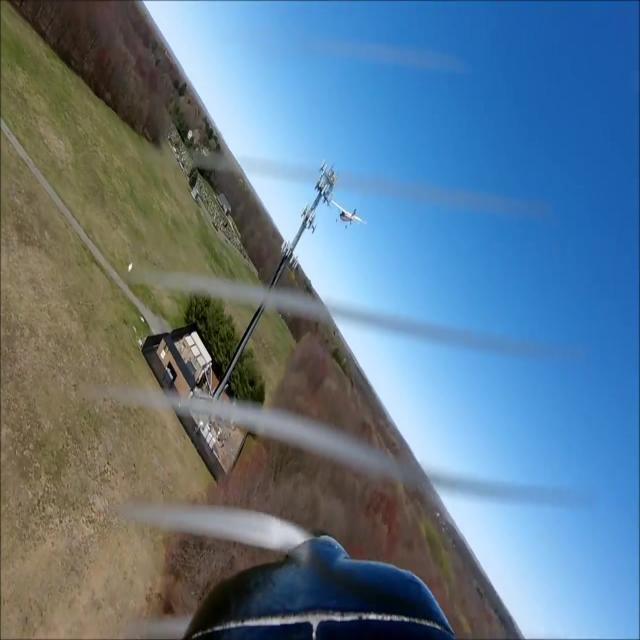iha: (330, 199, 367, 231)
